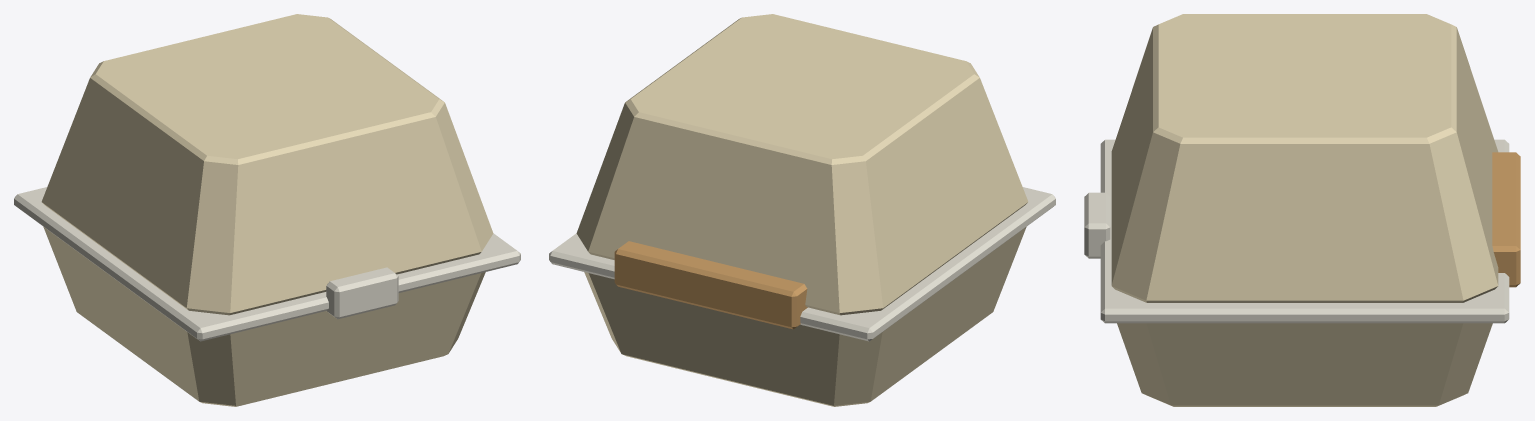
Rendered from b16_burger_clamshell.glb.
3 views of the same model, side by side, from view 1: azimuth 30°, elevation 25°; view 2: azimuth 150°, elevation 25°; view 3: azimuth 270°, elevation 25° (orthographic). The views are drawn at different scales.
Visible parts, largest first — view 1: b16_burger_clamshell; view 2: b16_burger_clamshell; view 3: b16_burger_clamshell.
Boxes of the visible parts, x1,y1,x2,y2 form: b16_burger_clamshell: [14, 14, 520, 406]; b16_burger_clamshell: [549, 14, 1055, 406]; b16_burger_clamshell: [1084, 14, 1520, 406].
Size of the model in its own units: 0.126 by 0.09 by 0.1345.
